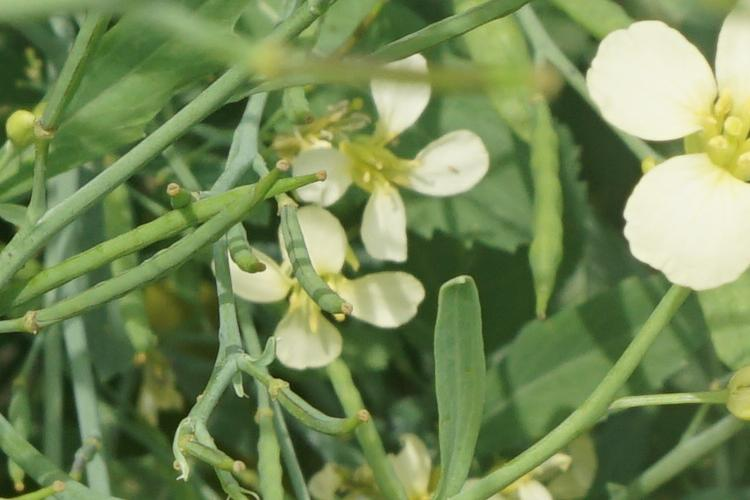pod: (12, 166, 332, 291), (250, 373, 414, 455), (512, 103, 573, 320), (276, 195, 360, 336), (177, 410, 249, 480)
white: (605, 21, 743, 310), (176, 203, 418, 356), (290, 59, 477, 234)
